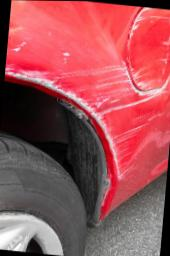Fender: (0, 0, 170, 193)
